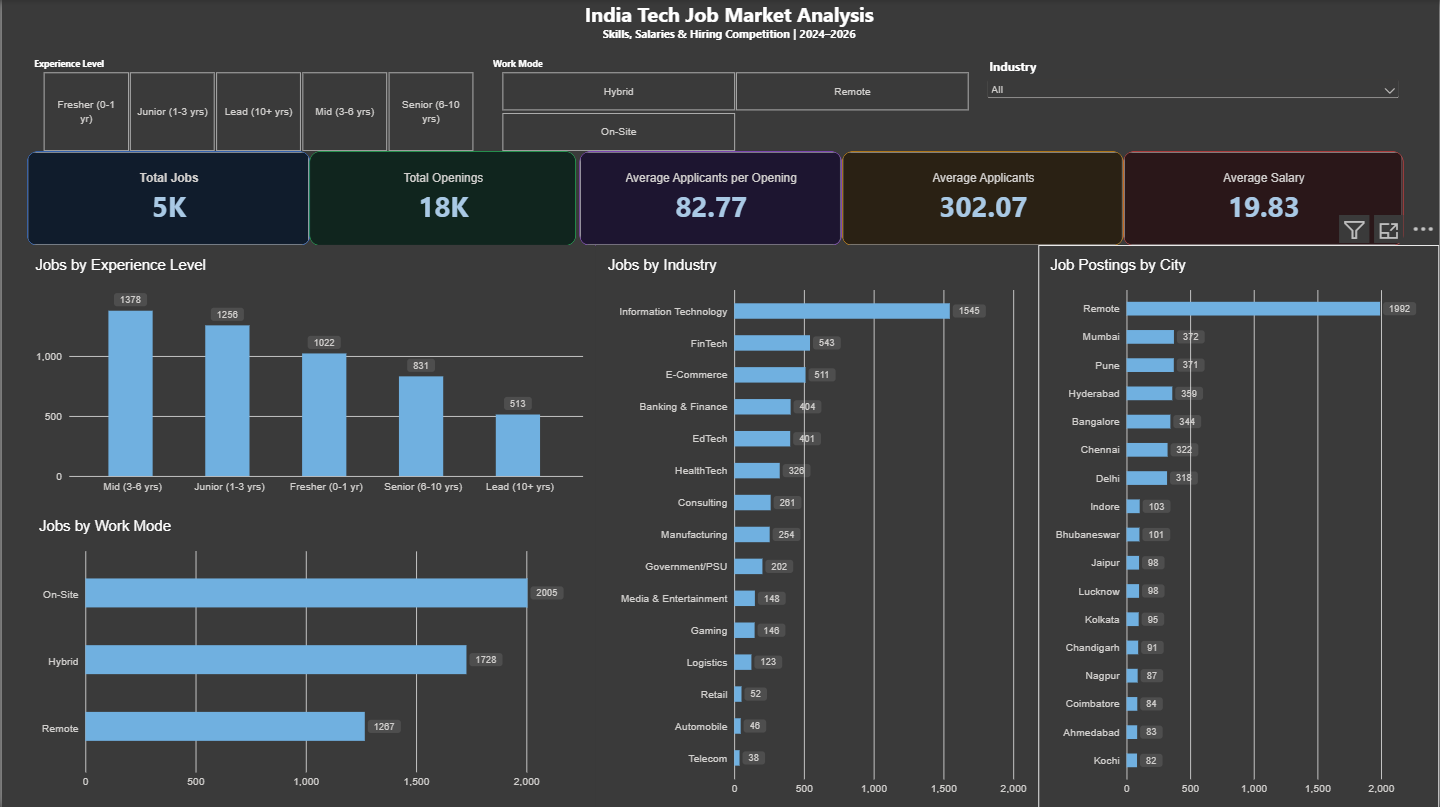

The page's visual inventory and layout, read from the dashboard file:
{"tool":"powerbi","page":{"name":"Executive Overview","canvas":[1920,1080],"ordinal":0},"visuals":[{"type":"cardVisual","fields":{"Data":["TechJobs.Total Jobs"]},"box":[34,202,378,126],"z":0},{"type":"cardVisual","fields":{"Data":["TechJobs.Total Openings"]},"box":[410,202,356,126],"z":1000},{"type":"cardVisual","fields":{"Data":["TechJobs.Average Salary"]},"box":[1498,202,374,126],"z":2000},{"type":"cardVisual","fields":{"Data":["TechJobs.Average Applicants"]},"box":[1122,202,376,126],"z":3000},{"type":"cardVisual","fields":{"Data":["TechJobs.Average Applicants per Opening"]},"box":[772,202,350,126],"z":4000},{"type":"clusteredColumnChart","title":"Jobs by Experience Level","fields":{"Category":["TechJobs.Experience_Level"],"Y":["CountNonNull(TechJobs.Job_ID)"]},"box":[29,327.5,763.7,349.3],"z":5000},{"type":"clusteredBarChart","title":"Jobs by Work Mode","fields":{"Category":["TechJobs.Work_Mode"],"Y":["CountNonNull(TechJobs.Job_ID)"]},"box":[32.6,676.8,760.1,394.5],"z":6000},{"type":"barChart","title":"Jobs by Industry","fields":{"Category":["TechJobs.Industry"],"Y":["CountNonNull(TechJobs.Job_ID)"]},"box":[792.6,327.5,591.8,752.8],"z":7000},{"type":"clusteredBarChart","title":"Job Postings by City","fields":{"Category":["TechJobs.City"],"Y":["CountNonNull(TechJobs.Job_ID)"]},"box":[1384.4,327.5,535.7,752.8],"z":8000},{"type":"textbox","box":[664.1,0,613.5,76],"z":9000},{"type":"slicer","fields":{"Values":["TechJobs.Experience_Level"]},"box":[34.4,76,613.5,126.7],"z":10000},{"type":"slicer","fields":{"Values":["TechJobs.Work_Mode"]},"box":[647.9,76,662.3,126.7],"z":11000},{"type":"slicer","fields":{"Values":["TechJobs.Industry"]},"box":[1310.2,76,561,126.7],"z":12000}]}

Visuals, with their boxes in screenshot pixels (x1, y1, x2, y2), scaled from the page's 1920x1080 canvas onto the 1440x807 screenshot:
cardVisual - TechJobs.Total Jobs: [left=26, top=151, right=309, bottom=245]
cardVisual - TechJobs.Total Openings: [left=308, top=151, right=574, bottom=245]
cardVisual - TechJobs.Average Salary: [left=1124, top=151, right=1404, bottom=245]
cardVisual - TechJobs.Average Applicants: [left=842, top=151, right=1124, bottom=245]
cardVisual - TechJobs.Average Applicants per Opening: [left=579, top=151, right=842, bottom=245]
"Jobs by Experience Level" clusteredColumnChart: [left=22, top=245, right=595, bottom=506]
"Jobs by Work Mode" clusteredBarChart: [left=24, top=506, right=595, bottom=800]
"Jobs by Industry" barChart: [left=594, top=245, right=1038, bottom=806]
"Job Postings by City" clusteredBarChart: [left=1038, top=245, right=1439, bottom=806]
textbox: [left=498, top=0, right=958, bottom=57]
slicer - TechJobs.Experience_Level: [left=26, top=57, right=486, bottom=151]
slicer - TechJobs.Work_Mode: [left=486, top=57, right=983, bottom=151]
slicer - TechJobs.Industry: [left=983, top=57, right=1403, bottom=151]
